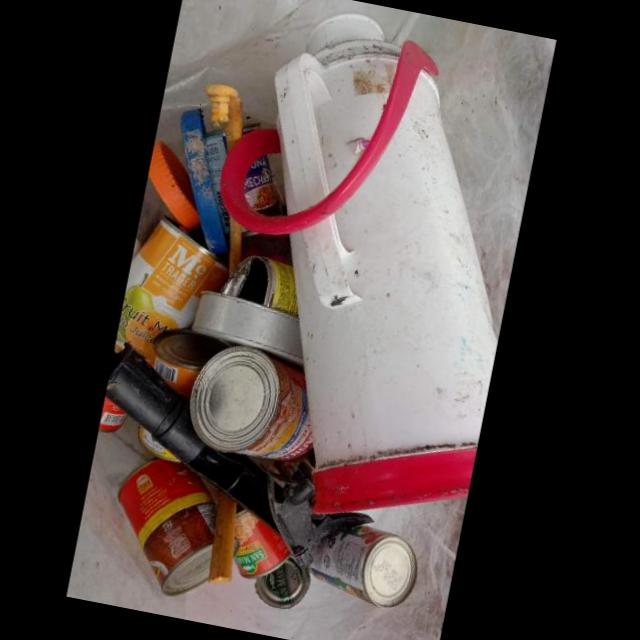nhom: (112, 216, 228, 368), (188, 346, 312, 462), (117, 458, 217, 597), (309, 525, 418, 610), (190, 291, 303, 368), (232, 505, 309, 609), (149, 329, 231, 401), (219, 255, 297, 317), (138, 426, 177, 463)
